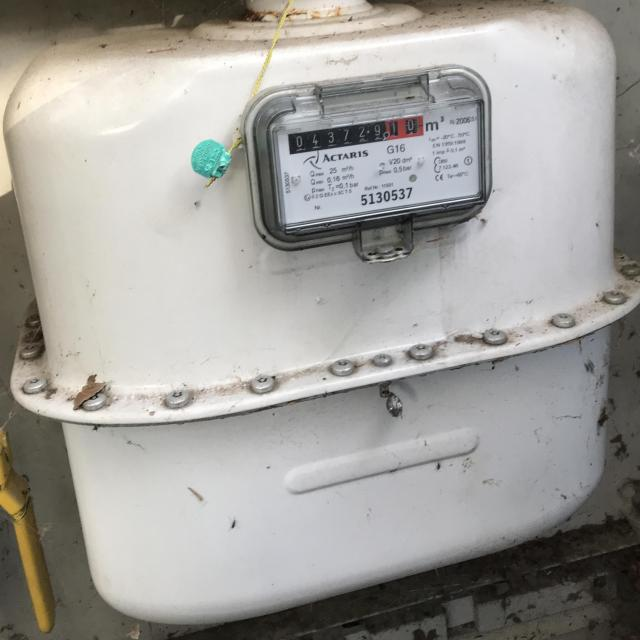gaz_meter: (273, 99, 485, 231)
indication: (289, 115, 425, 154)
